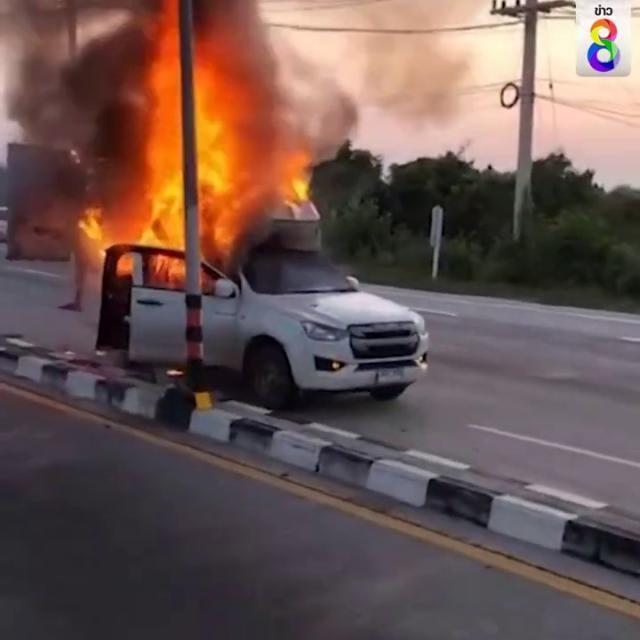Fire: (77, 0, 182, 248), (196, 54, 262, 260), (143, 252, 190, 284)
Smoke: (265, 0, 463, 158), (1, 1, 73, 224)
